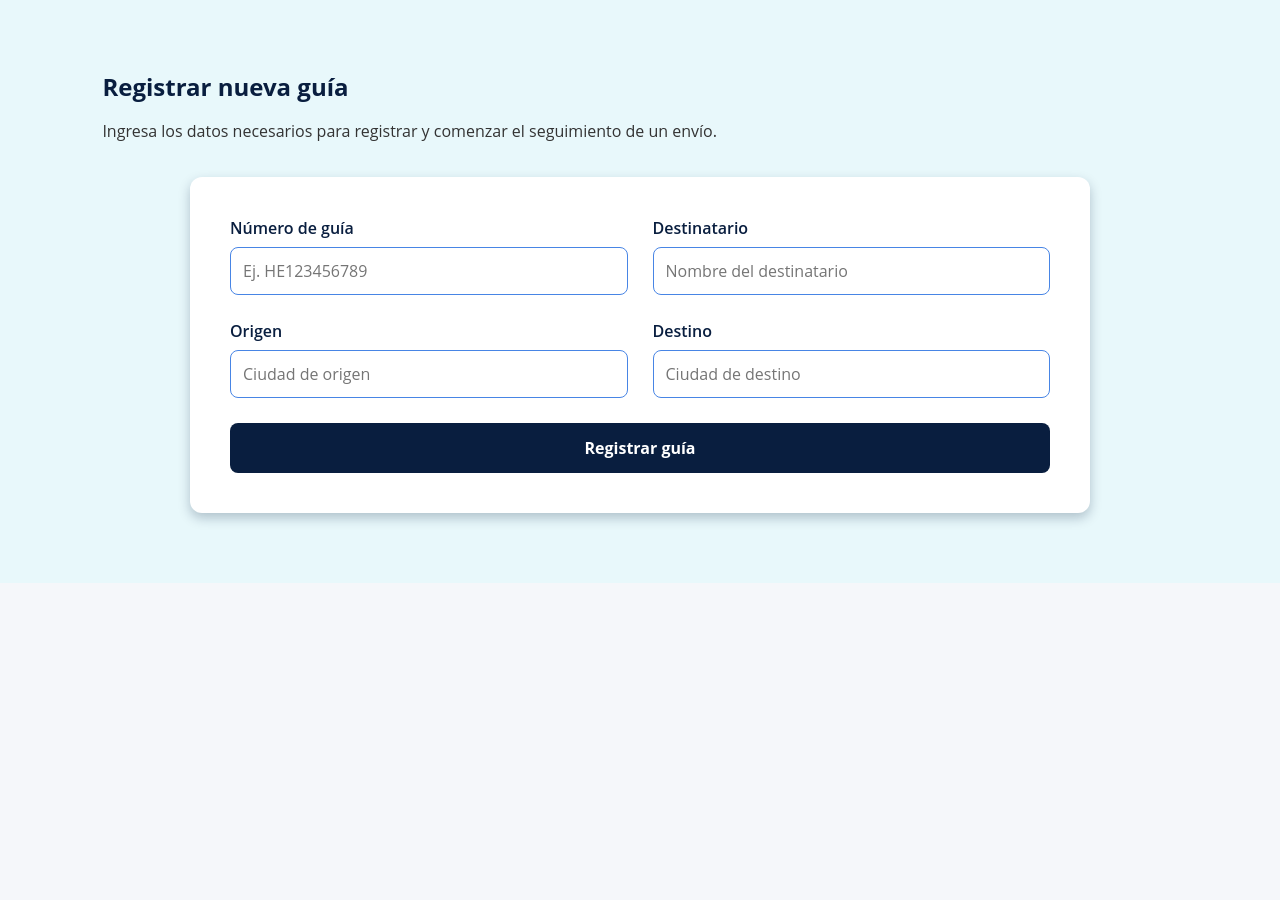
Test: RegisterForm › no registra una guía si faltan campos obligatorios
Click the button "Registrar guía". click: (640, 448)
box: [230,423,1050,473]
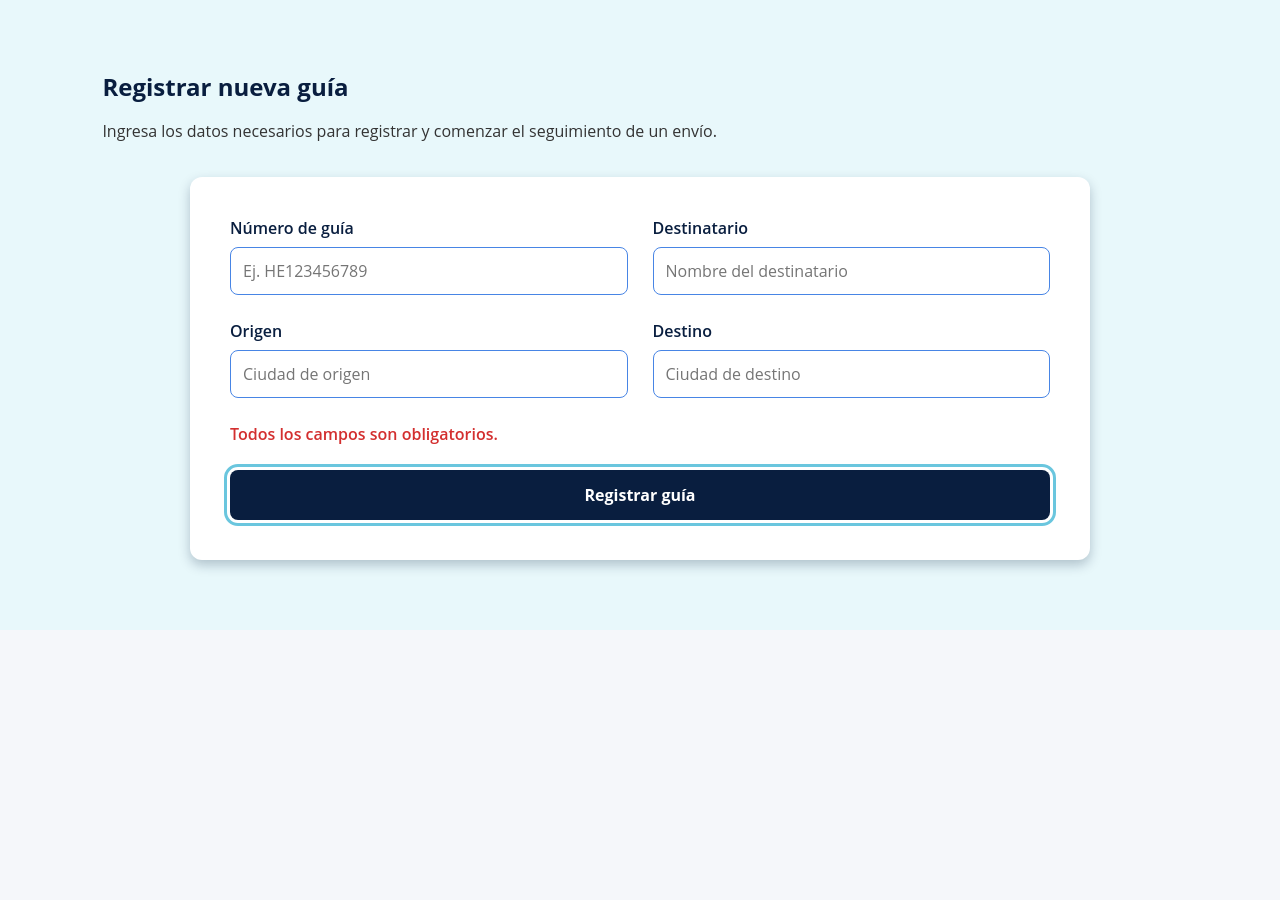
Expected: the text "Todos los campos son obligatorios." is shown, [230,423,498,445]
